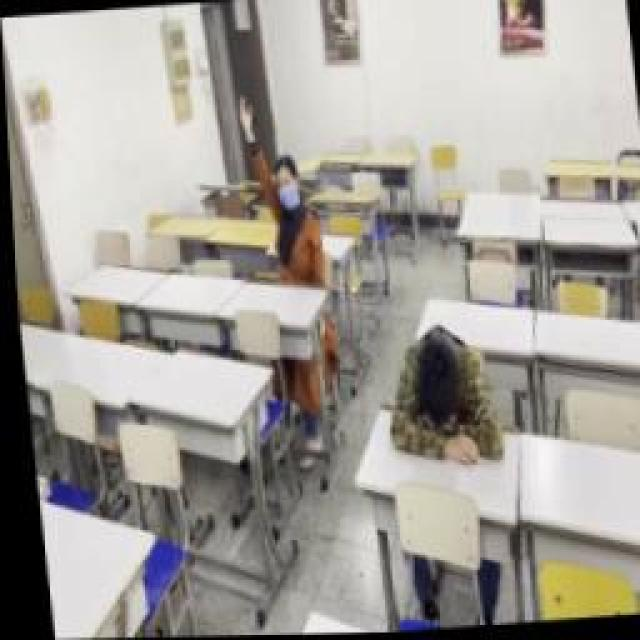sleep: (375, 323, 503, 465)
study: (235, 90, 323, 282)
